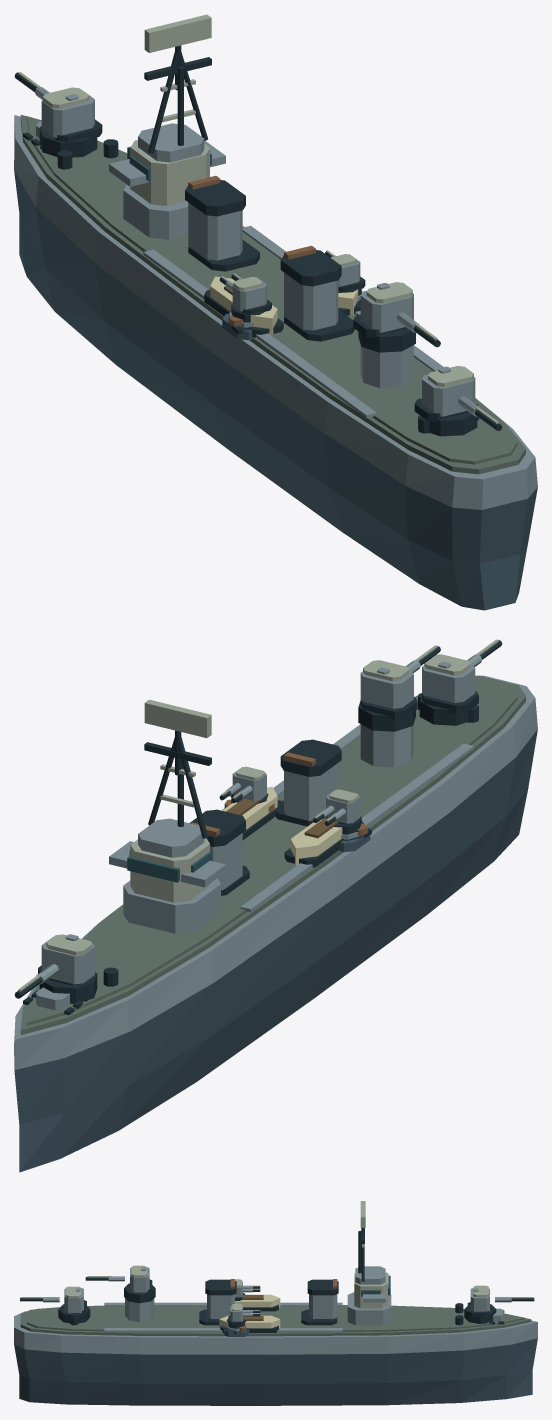
File: historic-forrest-sherman.glb
3 renders of one model, top to bottom at view 1: azimuth 30°, elevation 25°; view 2: azimuth 150°, elevation 25°; view 3: azimuth 270°, elevation 25°, orthographic. The views are drawn at different scales.
Visible parts, largest first — view 1: historic-forrest-sherman-historic-forrest-sherman-geometry, historic-forrest-sherman-part_bridge.137-geometry, historic-forrest-sherman-historic_funnel_0.130-geometry, historic-forrest-sherman-historic_funnel_1.075-geometry, historic-forrest-sherman-turret_main_1.099-geometry, historic-forrest-sherman-turret_main_0.106-geometry, historic-forrest-sherman-turret_main_2.083-geometry, historic-forrest-sherman-turret_aa_aa-port.139-geometry, historic-forrest-sherman-turret_aa_aa-starboard.135-geometry; view 2: historic-forrest-sherman-historic-forrest-sherman-geometry, historic-forrest-sherman-part_bridge.137-geometry, historic-forrest-sherman-historic_funnel_1.075-geometry, historic-forrest-sherman-turret_main_1.099-geometry, historic-forrest-sherman-turret_main_2.083-geometry, historic-forrest-sherman-turret_main_0.106-geometry, historic-forrest-sherman-historic_funnel_0.130-geometry, historic-forrest-sherman-turret_aa_aa-port.139-geometry, historic-forrest-sherman-turret_aa_aa-starboard.135-geometry; view 3: historic-forrest-sherman-historic-forrest-sherman-geometry, historic-forrest-sherman-part_bridge.137-geometry, historic-forrest-sherman-historic_funnel_0.130-geometry, historic-forrest-sherman-historic_funnel_1.075-geometry, historic-forrest-sherman-turret_main_1.099-geometry, historic-forrest-sherman-turret_main_0.106-geometry, historic-forrest-sherman-turret_main_2.083-geometry, historic-forrest-sherman-turret_aa_aa-starboard.135-geometry, historic-forrest-sherman-turret_aa_aa-port.139-geometry.
Boxes of the visible parts, x1,y1,x2,y2 form: historic-forrest-sherman-historic-forrest-sherman-geometry: [14, 114, 537, 610]; historic-forrest-sherman-part_bridge.137-geometry: [109, 14, 225, 239]; historic-forrest-sherman-historic_funnel_0.130-geometry: [185, 175, 259, 271]; historic-forrest-sherman-historic_funnel_1.075-geometry: [280, 245, 354, 341]; historic-forrest-sherman-turret_main_1.099-geometry: [353, 282, 440, 352]; historic-forrest-sherman-turret_main_0.106-geometry: [14, 72, 102, 157]; historic-forrest-sherman-turret_main_2.083-geometry: [414, 366, 502, 436]; historic-forrest-sherman-turret_aa_aa-port.139-geometry: [219, 273, 271, 322]; historic-forrest-sherman-turret_aa_aa-starboard.135-geometry: [325, 250, 365, 295]; historic-forrest-sherman-historic-forrest-sherman-geometry: [14, 675, 537, 1172]; historic-forrest-sherman-part_bridge.137-geometry: [109, 699, 225, 933]; historic-forrest-sherman-historic_funnel_1.075-geometry: [275, 739, 341, 826]; historic-forrest-sherman-turret_main_1.099-geometry: [358, 645, 440, 731]; historic-forrest-sherman-turret_main_2.083-geometry: [419, 639, 502, 725]; historic-forrest-sherman-turret_main_0.106-geometry: [14, 934, 97, 1003]; historic-forrest-sherman-historic_funnel_0.130-geometry: [189, 809, 249, 895]; historic-forrest-sherman-turret_aa_aa-port.139-geometry: [313, 789, 361, 834]; historic-forrest-sherman-turret_aa_aa-starboard.135-geometry: [219, 766, 268, 803]; historic-forrest-sherman-historic-forrest-sherman-geometry: [14, 1294, 537, 1405]; historic-forrest-sherman-part_bridge.137-geometry: [347, 1201, 391, 1325]; historic-forrest-sherman-historic_funnel_0.130-geometry: [301, 1279, 338, 1325]; historic-forrest-sherman-historic_funnel_1.075-geometry: [199, 1279, 236, 1325]; historic-forrest-sherman-turret_main_1.099-geometry: [85, 1265, 155, 1303]; historic-forrest-sherman-turret_main_0.106-geometry: [464, 1285, 534, 1323]; historic-forrest-sherman-turret_main_2.083-geometry: [20, 1286, 90, 1323]; historic-forrest-sherman-turret_aa_aa-starboard.135-geometry: [226, 1303, 260, 1328]; historic-forrest-sherman-turret_aa_aa-port.139-geometry: [235, 1279, 260, 1300].
Size of the model in its own units: 0.654 by 1.61 by 4.11.
